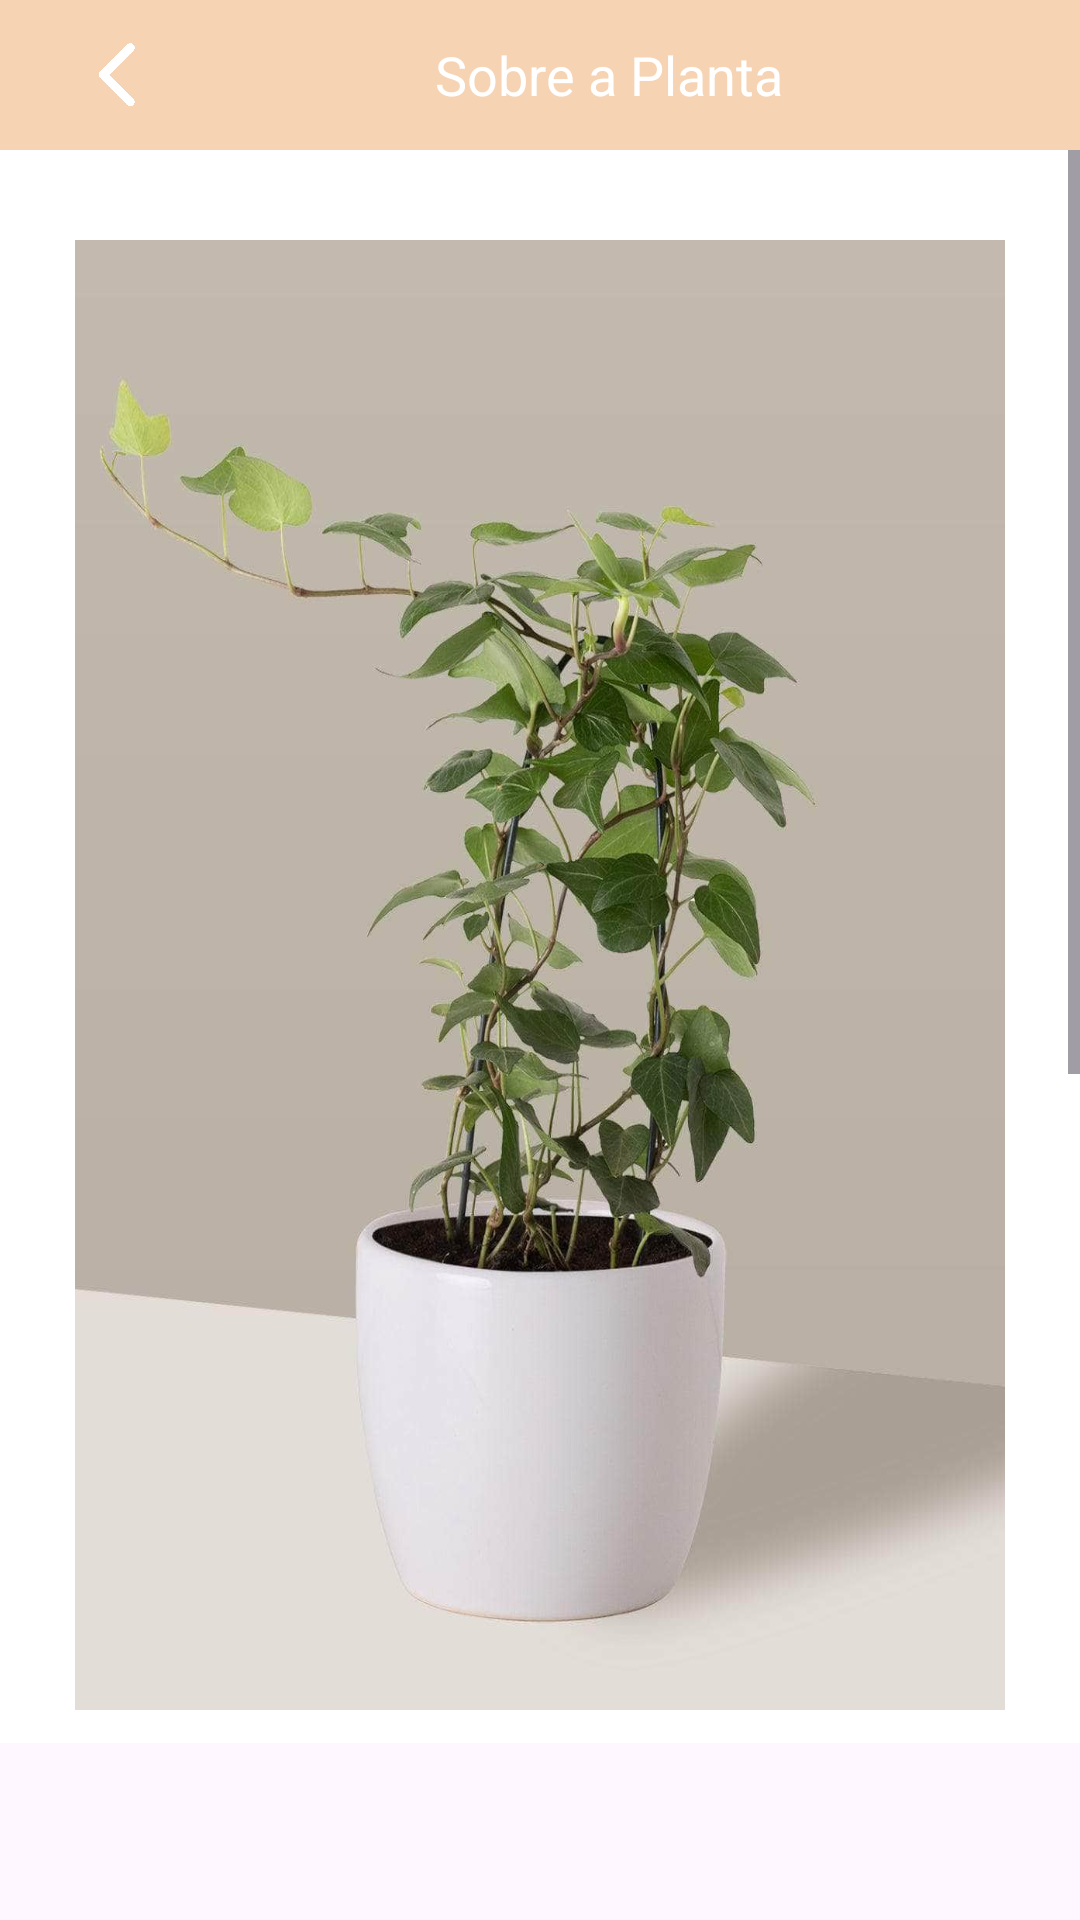

Locate icon controls on the screen. Image size 1080x1920, boxes as (x1, y1, x2, y2).
seta voltar: (99, 43, 135, 106)
